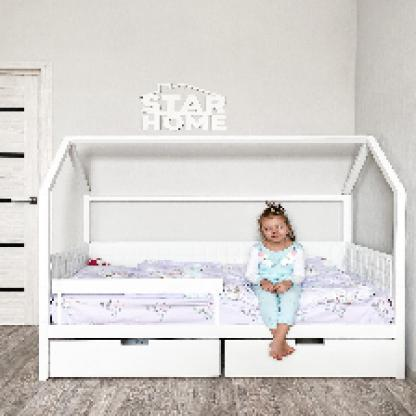child: (245, 203, 307, 363)
